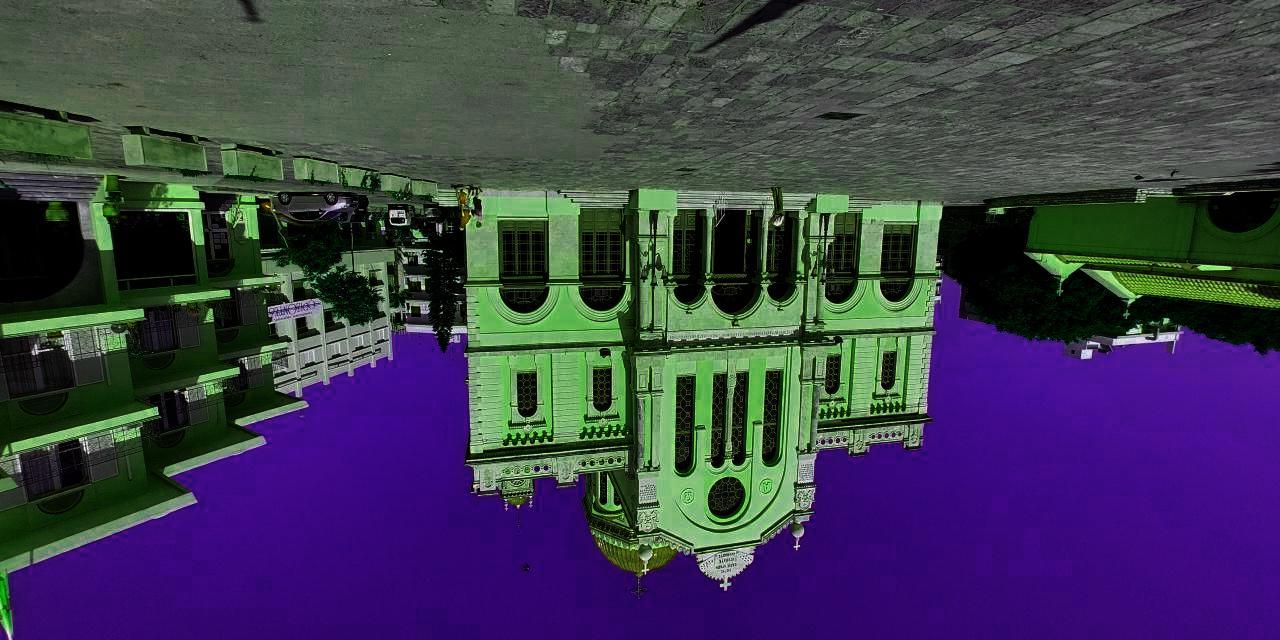Agios Minas: (445, 186, 938, 601)
